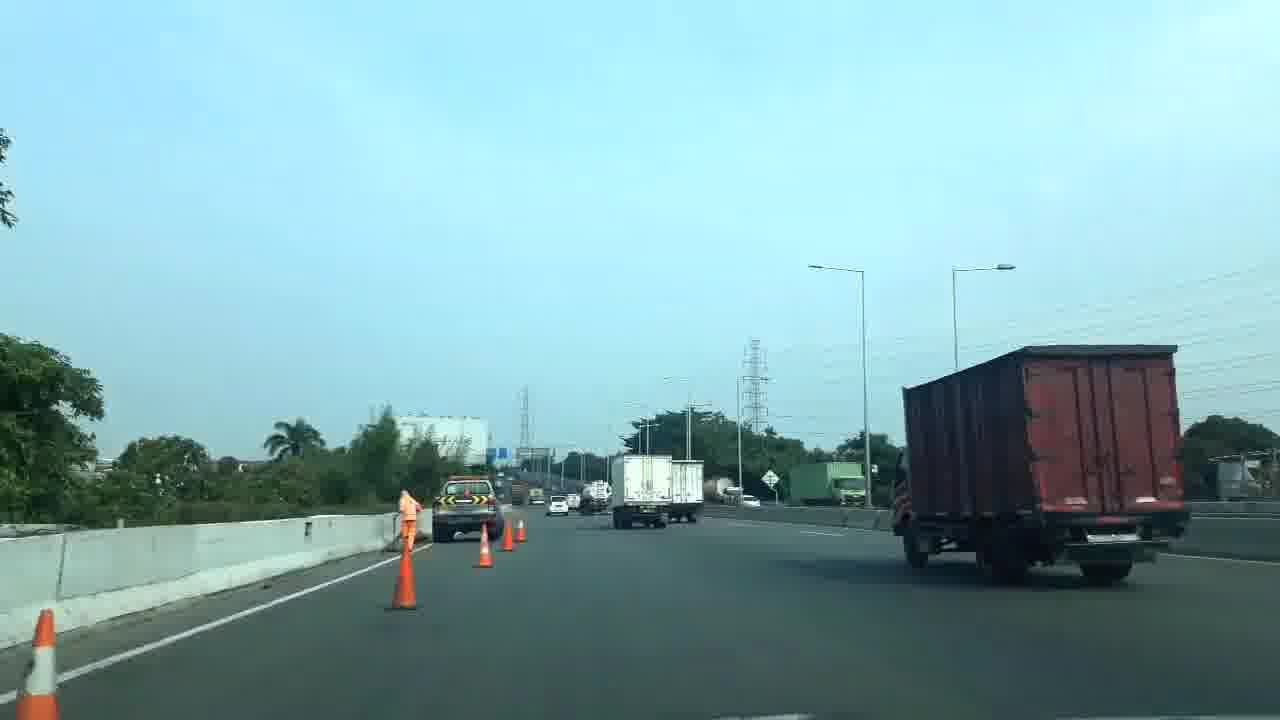plate_positive: (1084, 526, 1141, 542)
